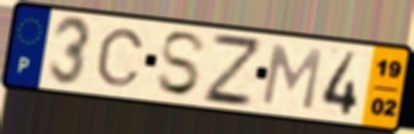3: (45, 12, 94, 92)
4: (318, 48, 361, 118)
C: (94, 26, 147, 89)
M: (258, 41, 325, 113)
S: (154, 30, 209, 99)
Z: (201, 30, 262, 109)
